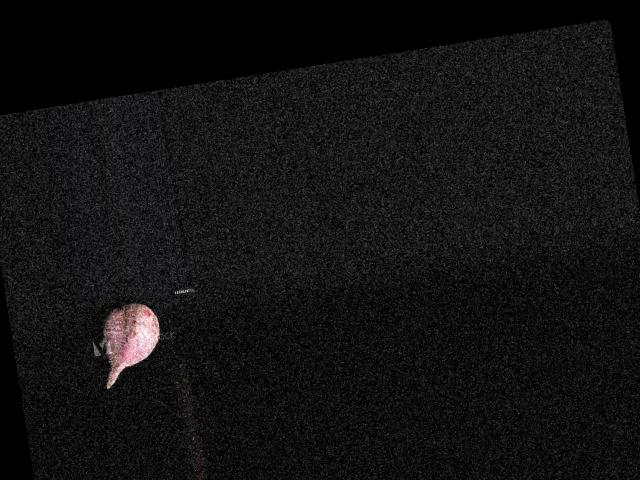beet: (95, 300, 168, 388)
